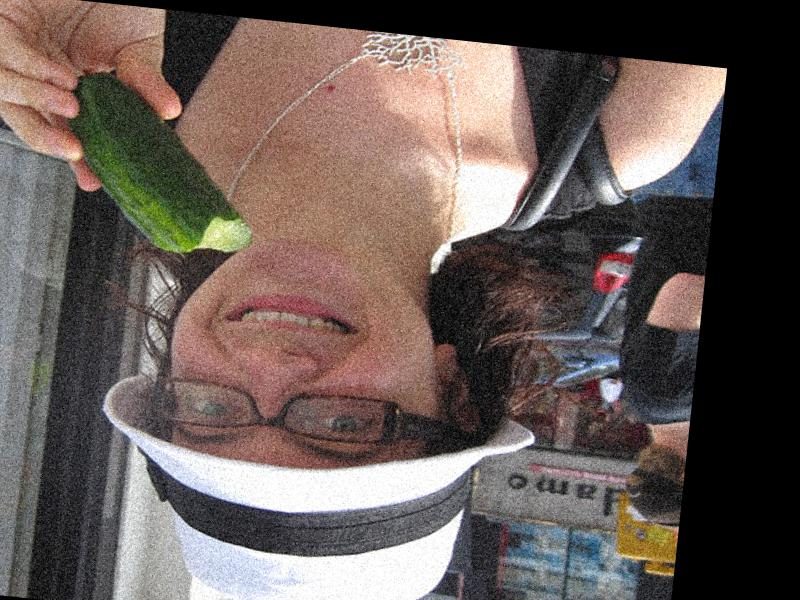Cucumber: (52, 69, 264, 259)
